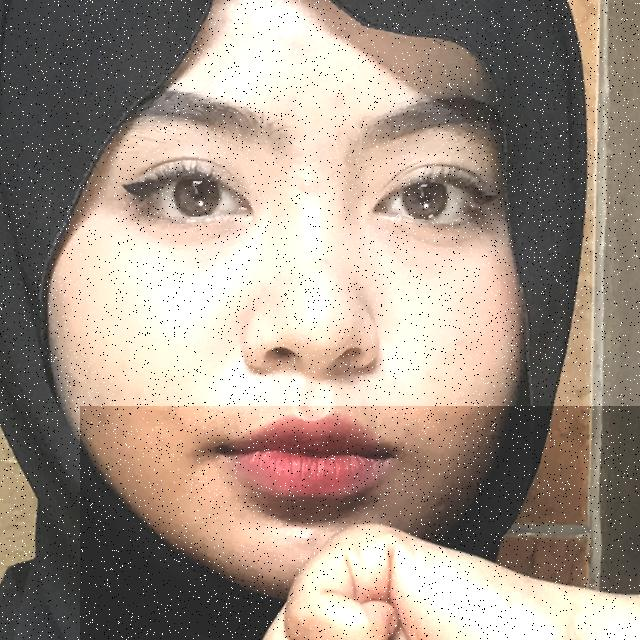sedih: (80, 406, 640, 640)
